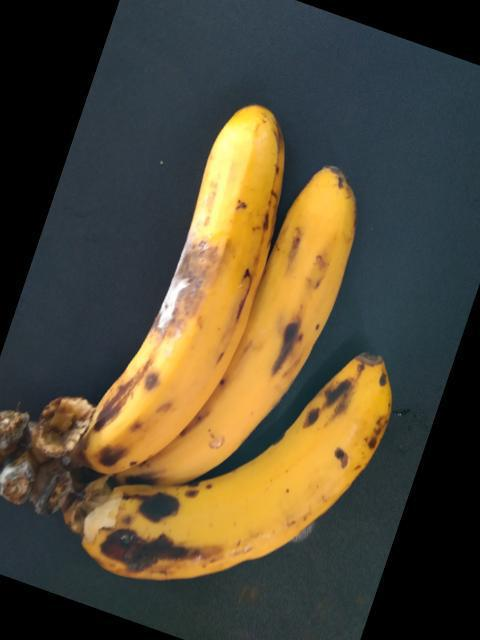ripe: (79, 357, 409, 622), (133, 155, 359, 479)
rotten: (86, 90, 297, 469)
